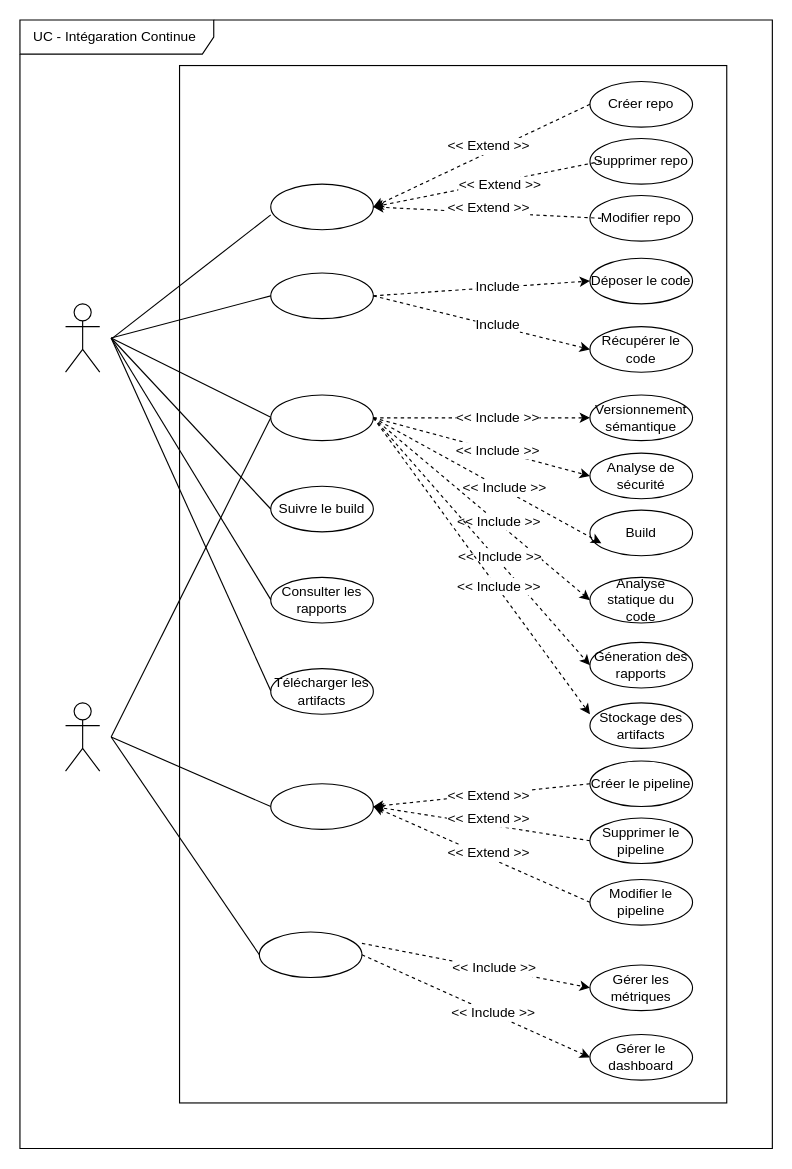
Image size: 792x1169. Some labels were removed from this diagram. Each missing label, with the centre of its shape:
"Développeur" belongs at [82,337].
"Gérer le code source" belongs at [321,295].
"Gérer le système de monitoring" belongs at [310,954].
"Gérer repo" belongs at [321,206].
"Lancer le pipeline" belongs at [321,417].
"Mettre en place le pipeline CI" belongs at [321,806].
"Opérationnel" belongs at [82,736].
